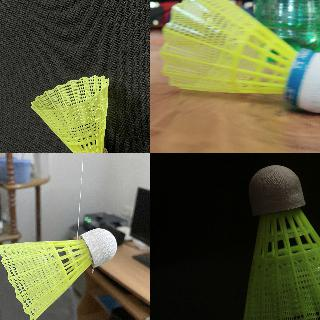shuttlecock: (160, 0, 319, 114), (240, 164, 319, 319), (0, 228, 117, 319), (29, 75, 111, 152)
